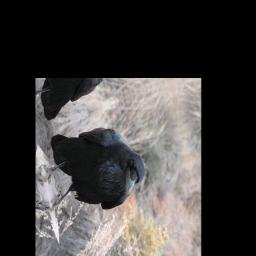Crow: (37, 101, 152, 233)
